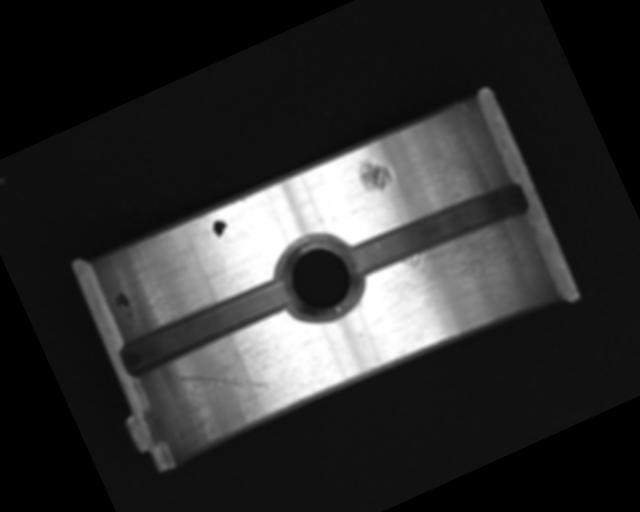blot: (111, 288, 138, 323), (208, 215, 232, 242)
bruise: (354, 153, 396, 197)
gap: (342, 171, 534, 289), (117, 272, 297, 380)
hole: (263, 223, 371, 336)
nick: (174, 342, 272, 424)
scratch: (356, 208, 547, 354)
